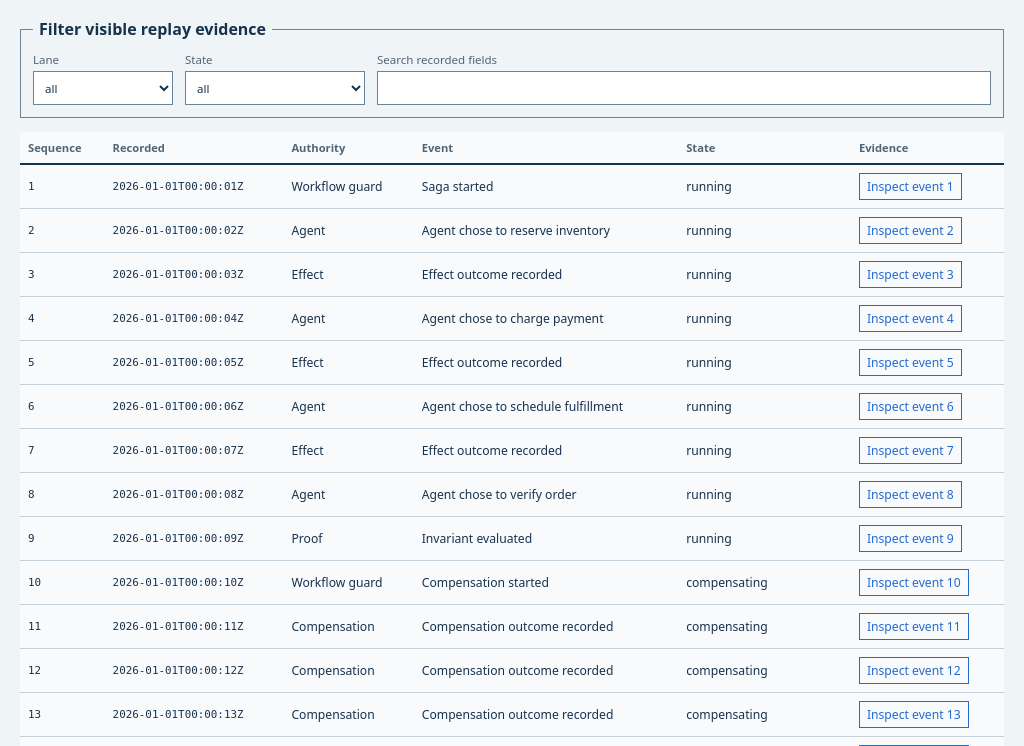
Scenario: LedgerView › states when visible replay evidence does not match
Type "not-recorded-anywhere" into the search field labelled "Search recorded fields" at [684, 88], box [377,71,991,105]
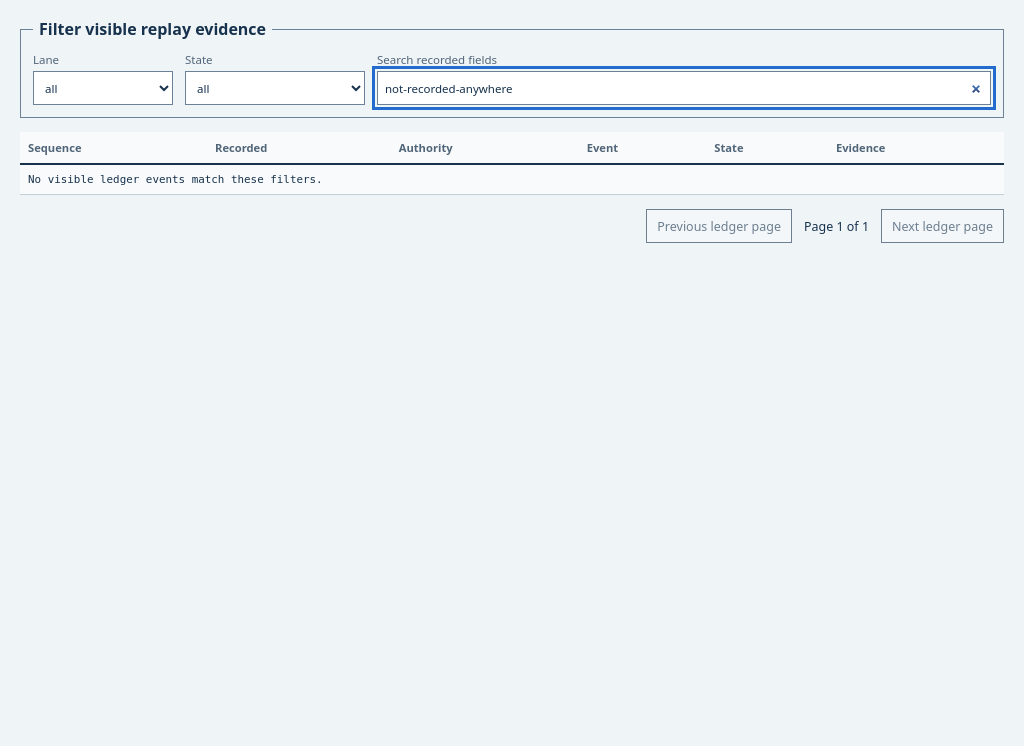
Check: the text "No visible ledger events match these filters." is shown, box [20,164,1004,194]
